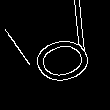O_NE: (14, 24, 96, 86)
